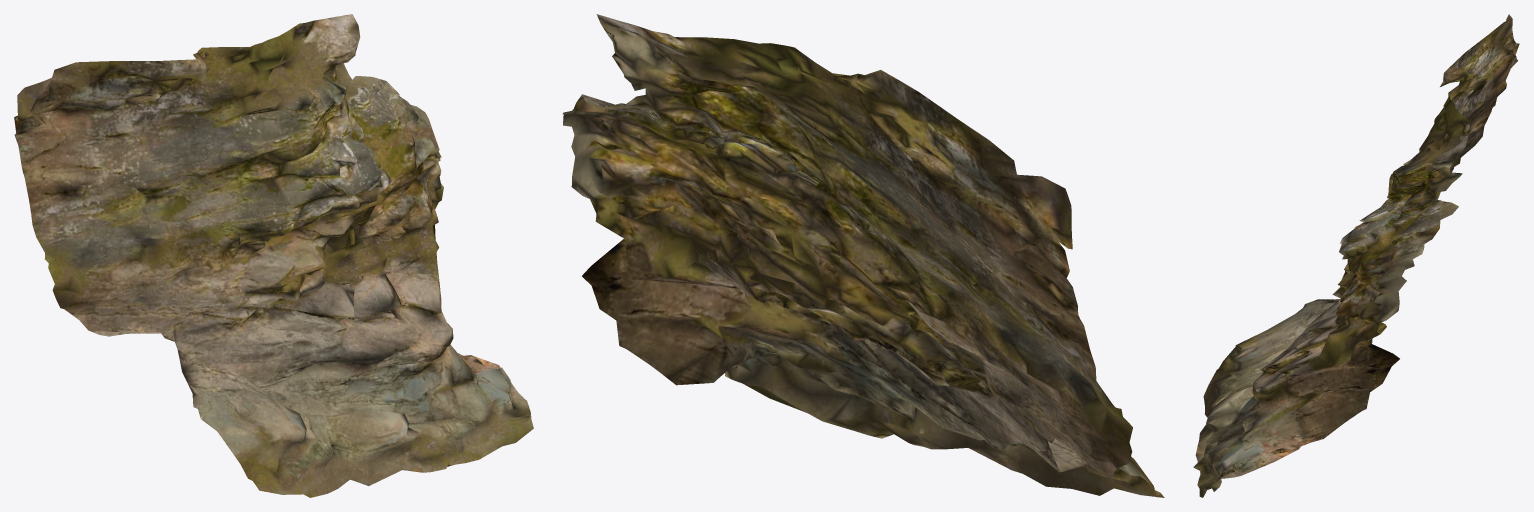
The model's file is rock_face_02_lod1.glb.
The picture shows the model from 3 angles, left to right: view 1: azimuth 30°, elevation 25°; view 2: azimuth 150°, elevation 25°; view 3: azimuth 270°, elevation 25°; orthographic projection. The views are drawn at different scales.
Visible parts, largest first — view 1: rock_face_02; view 2: rock_face_02; view 3: rock_face_02.
Part boxes in pixels (left/top/right/bottom): rock_face_02: left=14, top=14, right=533, bottom=497; rock_face_02: left=562, top=14, right=1164, bottom=497; rock_face_02: left=1193, top=14, right=1519, bottom=497.
Size of the model in its own units: 2.71 by 2.47 by 2.13.
1 material, 1 textured.
